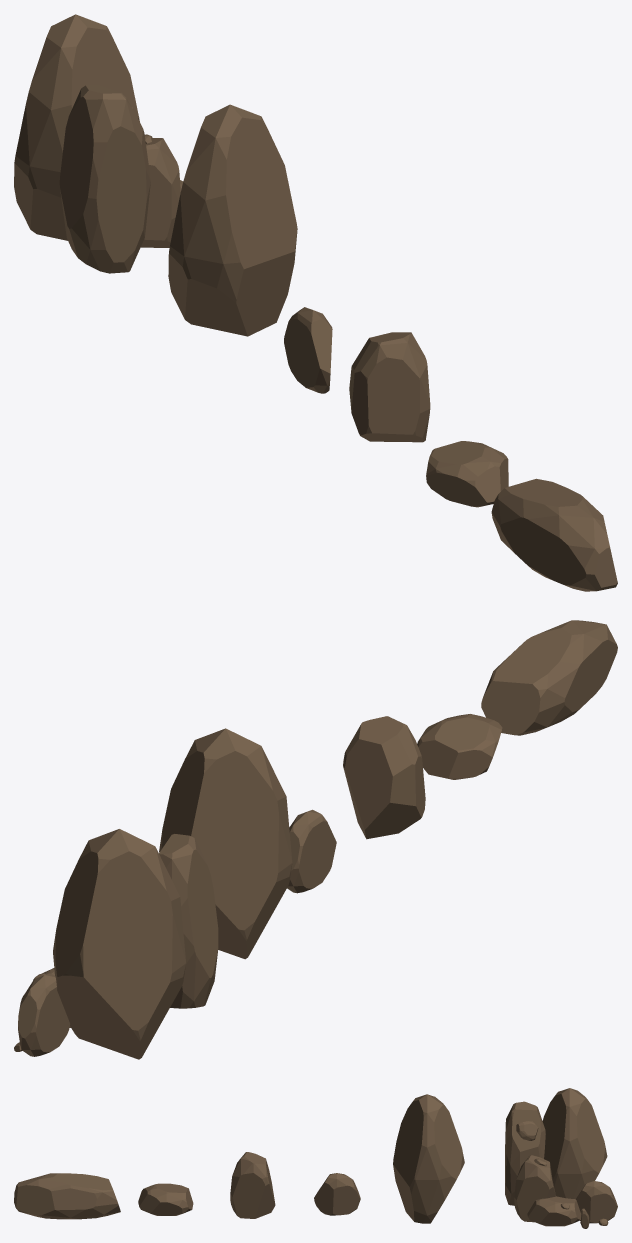
Rendered from Rock Pack.fbx.
The picture shows the model from 3 angles, top to bottom: view 1: azimuth 30°, elevation 25°; view 2: azimuth 150°, elevation 25°; view 3: azimuth 270°, elevation 25°; orthographic projection. The views are drawn at different scales.
Parts seen in each view (by area): view 1: 5, 1.001, 5.001, 1, 3, 2, 4, 3.001; view 2: 5.001, 5, 1, 3, 1.001, 2, 4.001, 4; view 3: 5, 5.001, 1, 3, 1.001, 3.001, 2, 4, 2.001, 4.001, 2.007.
Boxes of the visible parts, box(x1,y1,x2,y2) form: 5: box(168, 104, 297, 336); 1.001: box(59, 84, 150, 273); 5.001: box(14, 14, 139, 240); 1: box(491, 478, 617, 591); 3: box(349, 332, 430, 442); 2: box(426, 441, 508, 507); 4: box(284, 307, 332, 393); 3.001: box(140, 138, 180, 247); 5.001: box(53, 829, 185, 1059); 5: box(159, 728, 292, 959); 1: box(481, 620, 617, 735); 3: box(343, 716, 425, 839); 1.001: box(159, 834, 218, 1008); 2: box(417, 714, 502, 779); 4.001: box(18, 973, 70, 1056); 4: box(287, 809, 336, 893); 5: box(393, 1094, 464, 1223); 5.001: box(542, 1088, 607, 1198); 1: box(14, 1173, 120, 1219); 3: box(230, 1152, 275, 1218); 1.001: box(505, 1101, 545, 1205); 3.001: box(514, 1155, 555, 1222); 2: box(138, 1183, 193, 1215); 4: box(314, 1173, 360, 1215); 2.001: box(527, 1196, 580, 1226); 4.001: box(575, 1181, 617, 1223); 2.007: box(516, 1121, 538, 1140).
Size of the model in its own units: 385 by 539 by 2415.
